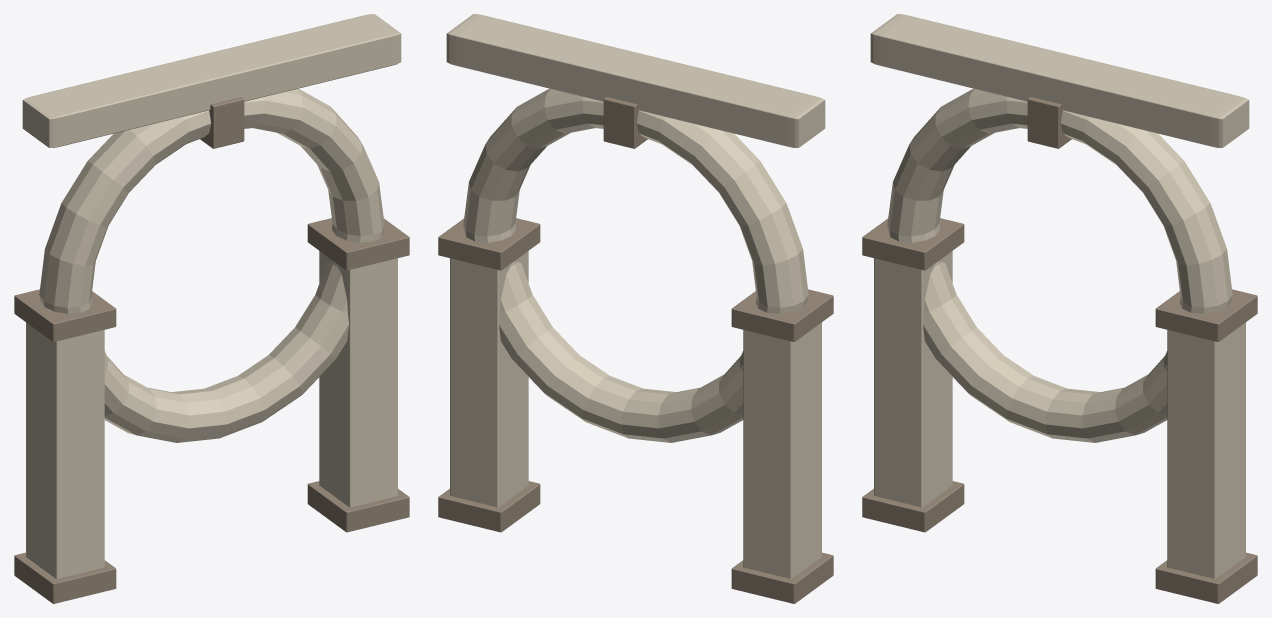
Rendered from gate_arch.glb.
3 renders of one model, left to right at view 1: azimuth 30°, elevation 25°; view 2: azimuth 150°, elevation 25°; view 3: azimuth 330°, elevation 25°, orthographic.
Parts seen in each view (by area): view 1: gate_arch; view 2: gate_arch; view 3: gate_arch.
Boxes of the visible parts, x1,y1,x2,y2 form: gate_arch: (14, 14, 409, 603); gate_arch: (438, 14, 833, 603); gate_arch: (862, 14, 1257, 603).
Size of the model in its own units: 3.65 by 4.7 by 0.7.
